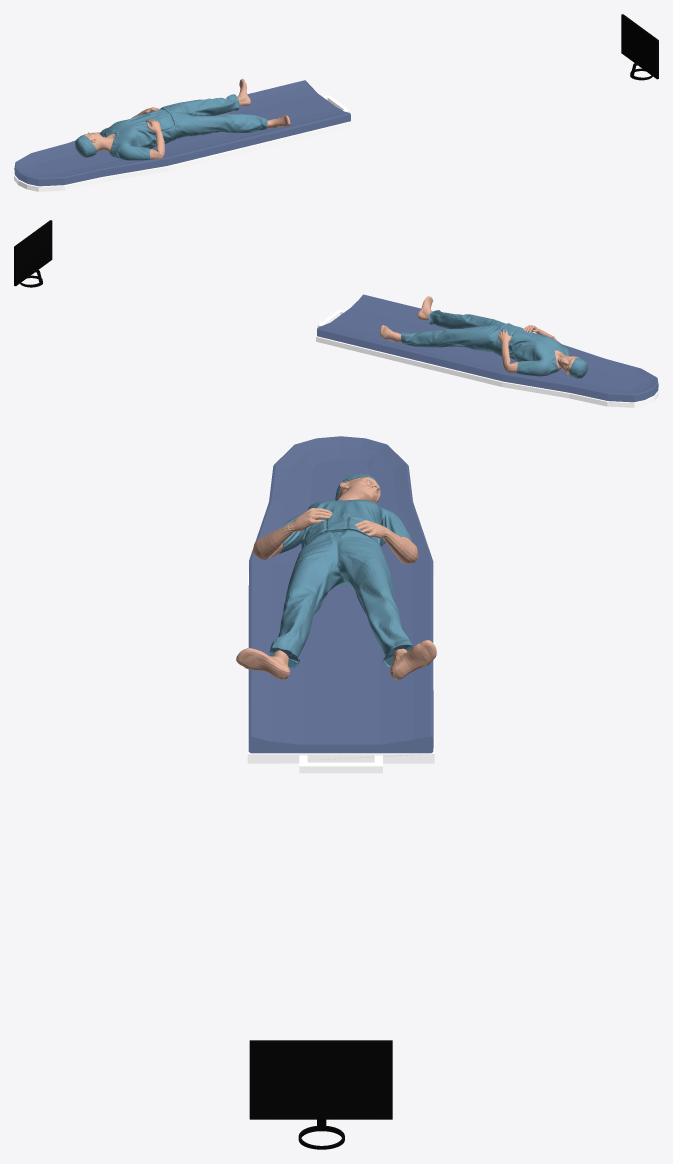
Rendered from Dynamic 1.glb.
3 renders of one model, top to bottom at view 1: azimuth 30°, elevation 25°; view 2: azimuth 150°, elevation 25°; view 3: azimuth 270°, elevation 25°, orthographic. The views are drawn at different scales.
Visible parts, largest first — view 1: MRI-Scanner, patient, Monitor; view 2: MRI-Scanner, patient, Monitor; view 3: MRI-Scanner, patient, Monitor.
Boxes of the visible parts, <box> form: MRI-Scanner: <box>14,80,351,191</box>; patient: <box>75,78,290,160</box>; Monitor: <box>621,14,658,80</box>; MRI-Scanner: <box>316,294,658,407</box>; patient: <box>380,296,587,378</box>; Monitor: <box>14,220,52,287</box>; MRI-Scanner: <box>247,436,434,773</box>; patient: <box>236,473,436,679</box>; Monitor: <box>249,1040,392,1149</box>.
Size of the model in its own units: 8.11 by 0.9397 by 1.12.
4 materials, 1 textured.
